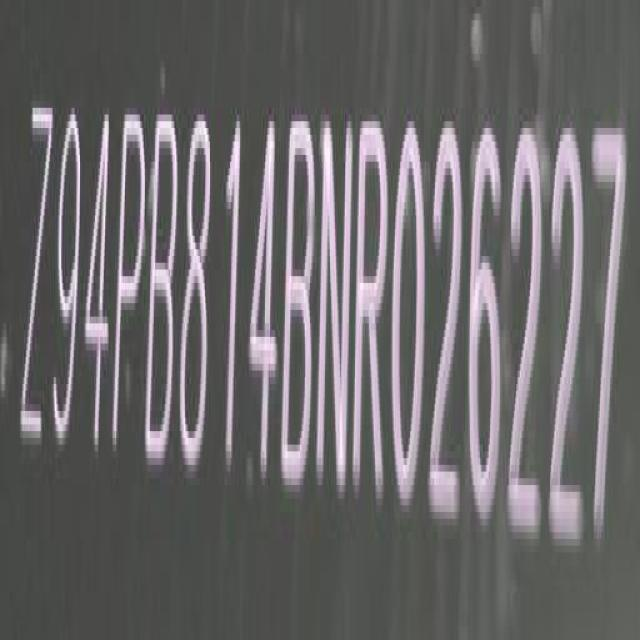0: (393, 114, 428, 518)
1: (223, 113, 242, 498)
2: (549, 116, 586, 558), (429, 116, 465, 524), (508, 117, 542, 542)
4: (249, 113, 281, 491), (85, 102, 115, 467)
6: (468, 120, 502, 534)
7: (591, 116, 631, 566)
8: (182, 109, 215, 483)
9: (54, 99, 81, 462)
B: (284, 110, 317, 496), (146, 103, 177, 477)
N: (318, 111, 353, 504)
P: (116, 103, 145, 469)
R: (354, 110, 390, 513)
Z: (22, 96, 52, 457)
